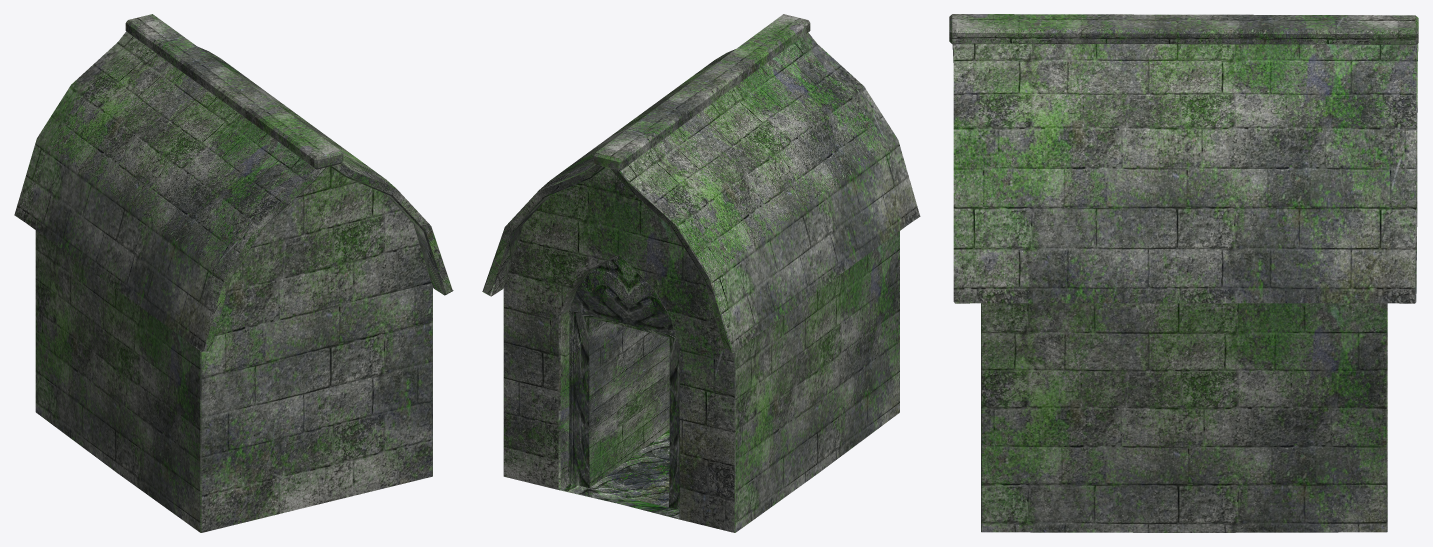
Rendered from Mausoleum.fbx.
3 views of the same model, side by side, from view 1: azimuth 30°, elevation 25°; view 2: azimuth 150°, elevation 25°; view 3: azimuth 270°, elevation 25° (orthographic). The views are drawn at different scales.
Visible parts, largest first — view 1: Mausoleum; view 2: Mausoleum; view 3: Mausoleum.
Part boxes in pixels (box(x1,y1,x2,y2)): Mausoleum: box(14, 14, 453, 532); Mausoleum: box(482, 14, 920, 532); Mausoleum: box(949, 14, 1418, 532).
Bounding box in the file's own units: 442 × 602 × 581.
Materials: 1 (1 with a texture image).
